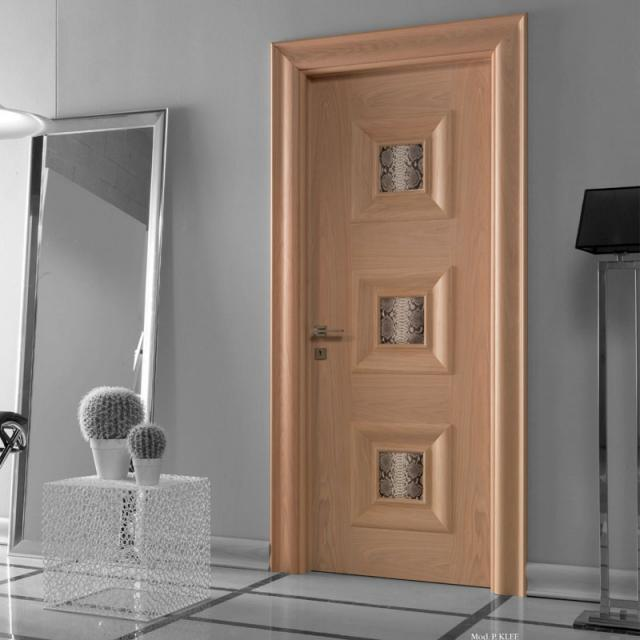close: (282, 51, 516, 598)
